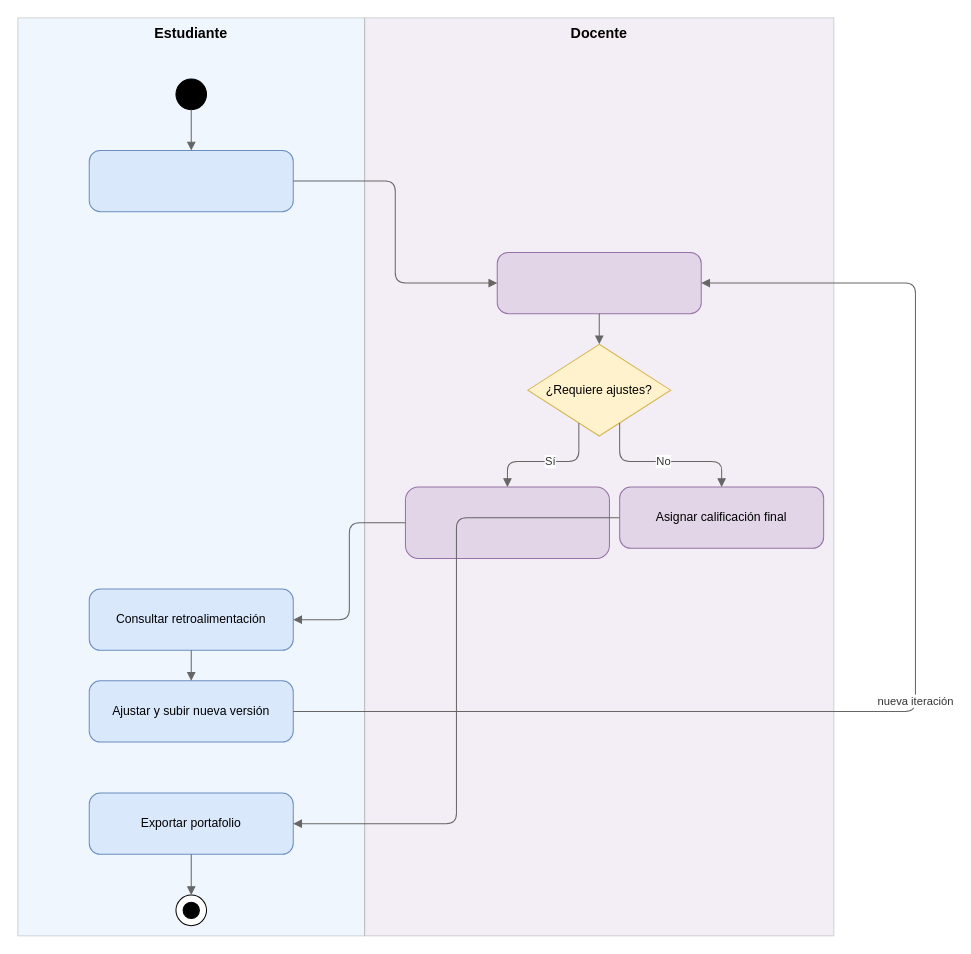
The diagram is 971 pixels wide and 954 high, and some of its shapes have lost their labels. Here are the shapes that lost their labels. From the top down, the centre of each, then its label:
(190,180): Subir versión (boceto o avance)
(598,282): Revisar versión
(506,522): Dejar retroalimentación y calificación parcial
